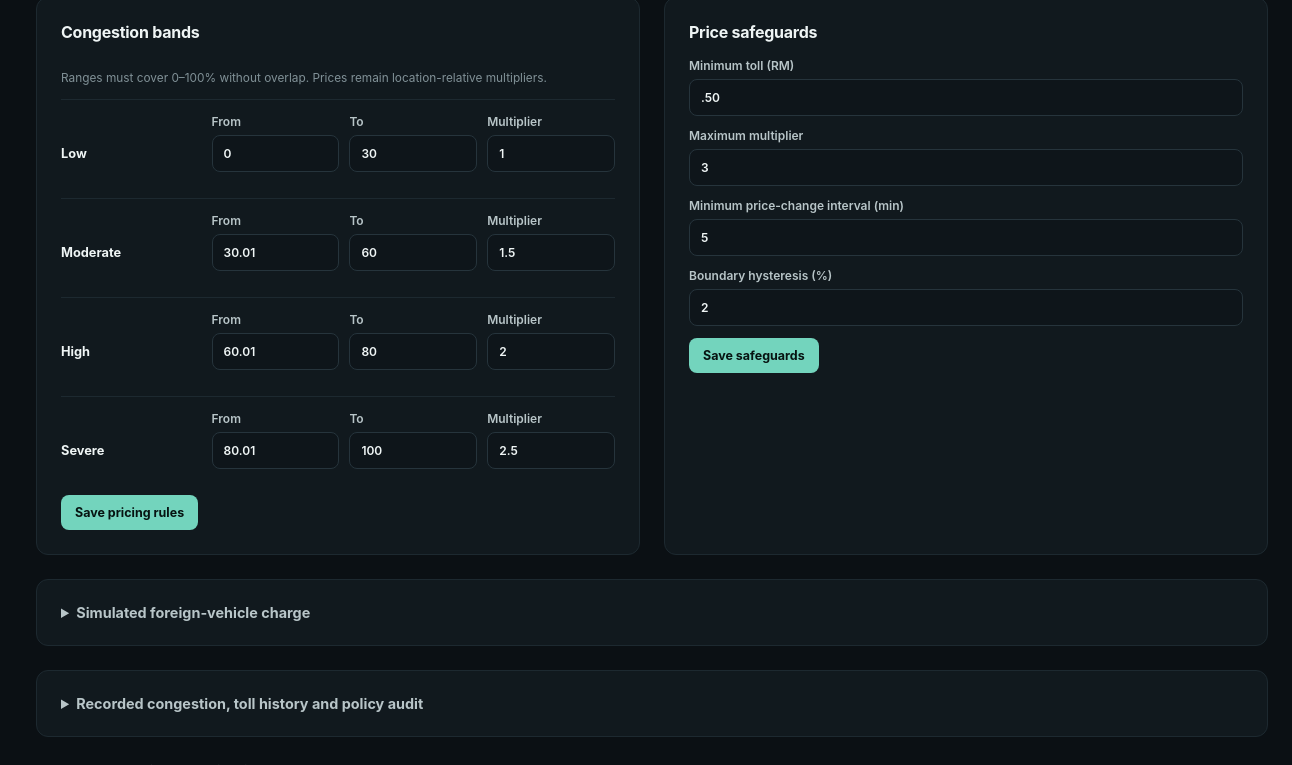
Test case: a successful policy save immediately refreshes and renders backend canonical pricing
The width and height of the screenshot is (1292, 765).
Replace the text in the number field named "moderate multiplier" with "2.00" at (551, 253), box 487,234 -> 615,271
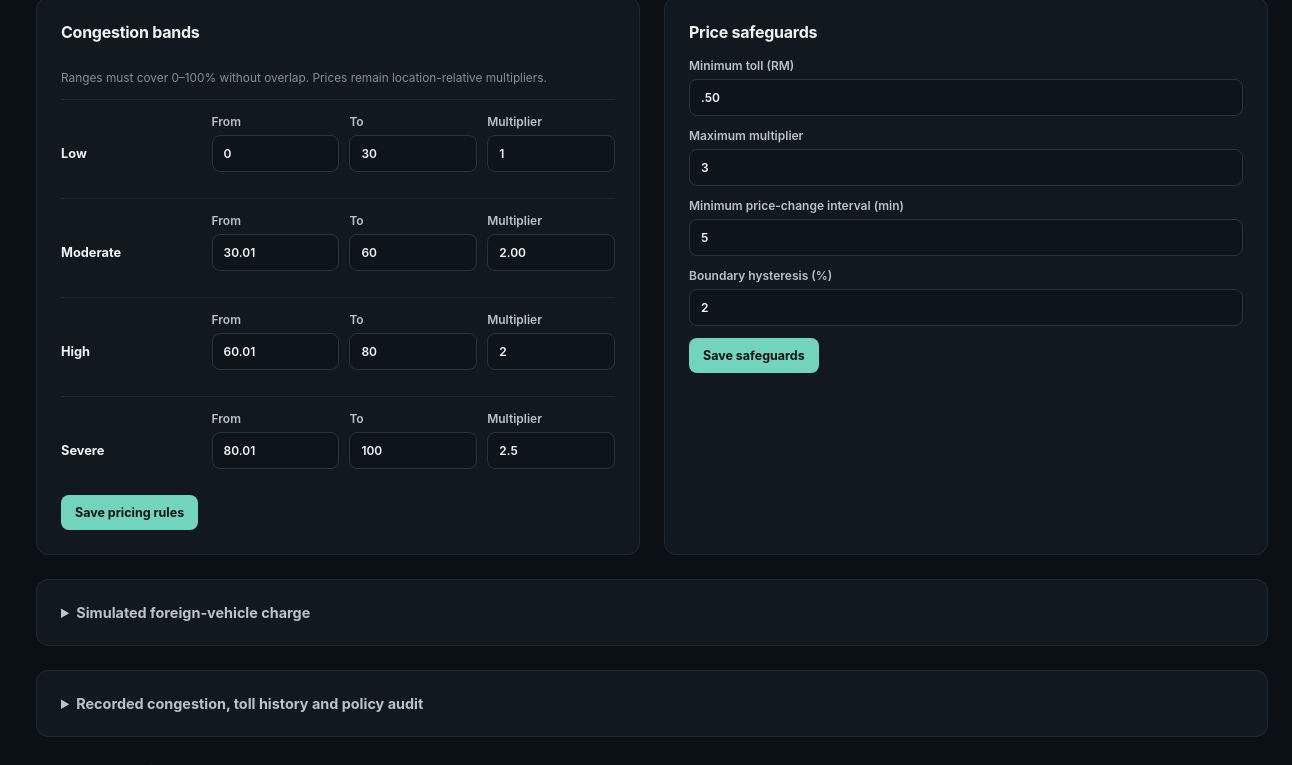
Click the button "Save pricing rules" at (130, 513), box 61,495 -> 198,530
(page scrolled)
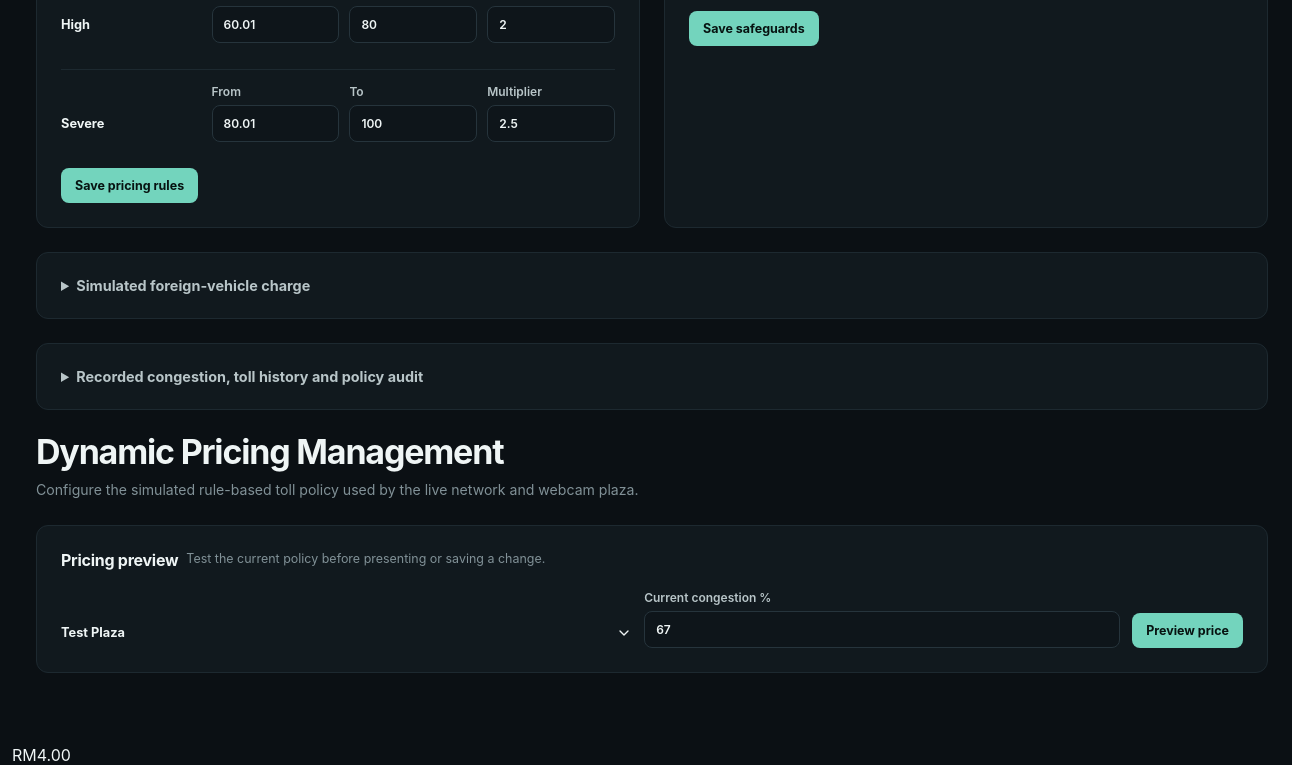
Expected: the text "RM4.00" is shown, 12,745 -> 71,764
